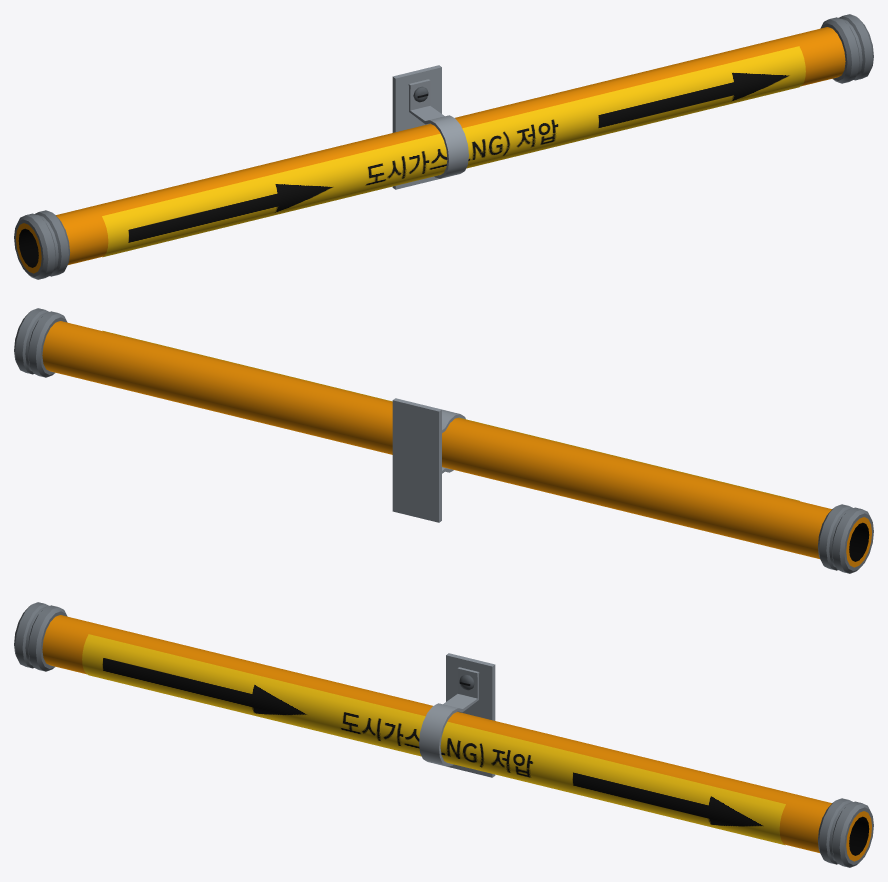
File: GasPipe.obj
3 renders of one model, top to bottom at view 1: azimuth 30°, elevation 25°; view 2: azimuth 150°, elevation 25°; view 3: azimuth 330°, elevation 25°, orthographic.
Visible parts, largest first — view 1: GasPipe; view 2: GasPipe; view 3: GasPipe.
Part boxes in pixels (<box>): GasPipe: <box>14,14,873,279</box>; GasPipe: <box>14,308,873,573</box>; GasPipe: <box>14,602,873,867</box>.
Size of the model in its own units: 0.5 by 0.064 by 0.0466.
